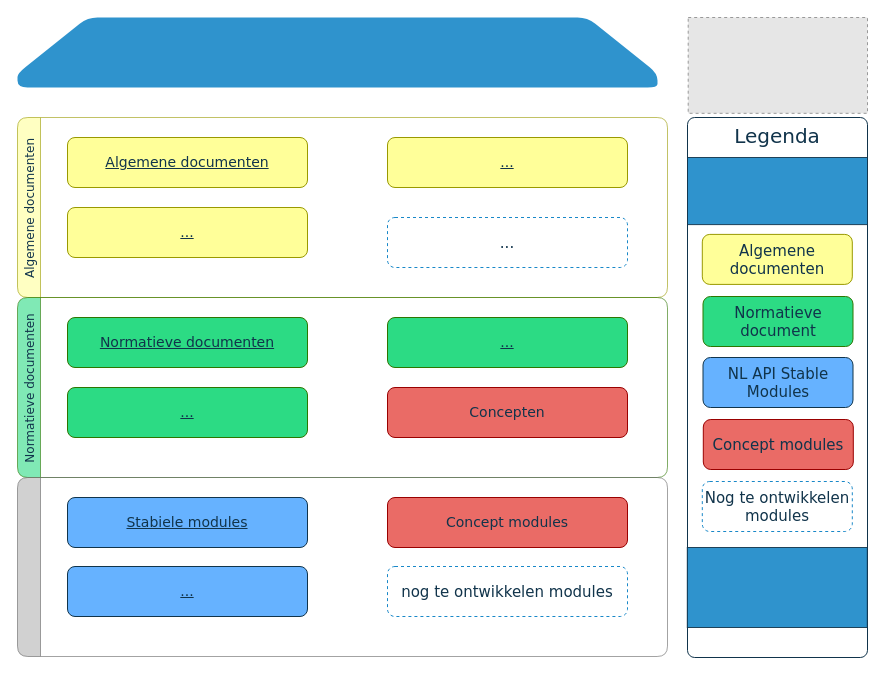
The diagram is 885 pixels wide and 675 high, and some of its shapes have lost their labels. Grey dashed boxes stand in for pictures. The shapes that lost their labels are listed below. From the top down, each one's box as (x1, y1, x2, y2) in pixels, then its label:
(17, 17, 657, 87): NL API Strategie - Samenvatting
(686, 156, 868, 225): Infographic NL API Strategie
(16, 476, 668, 656): Modulen documenten
(686, 546, 867, 628): Laatst bijgewerkt op 10-05-2023 Versie 0.6
